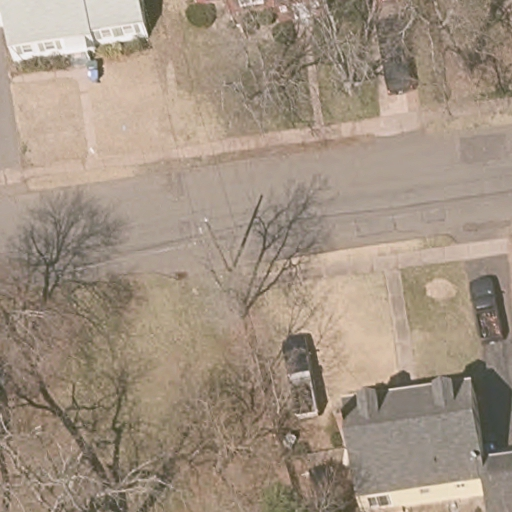DT: (198, 218, 235, 273)
